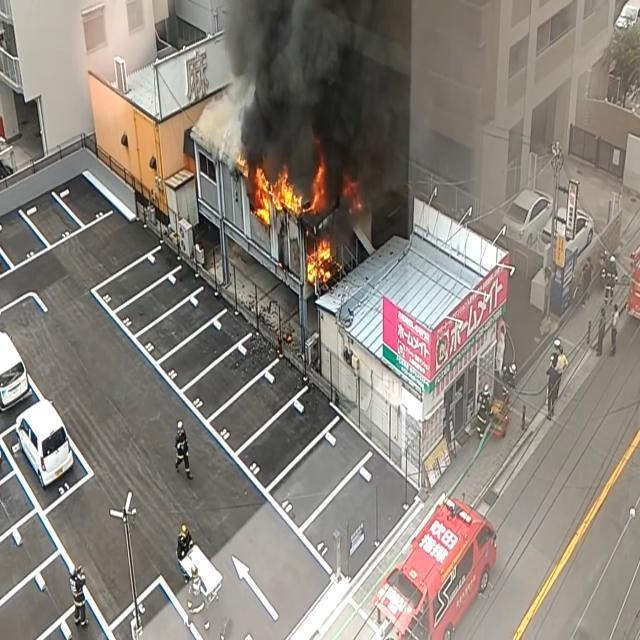Fire: (247, 162, 306, 225), (304, 234, 338, 286)
Smoke: (216, 0, 414, 180)
